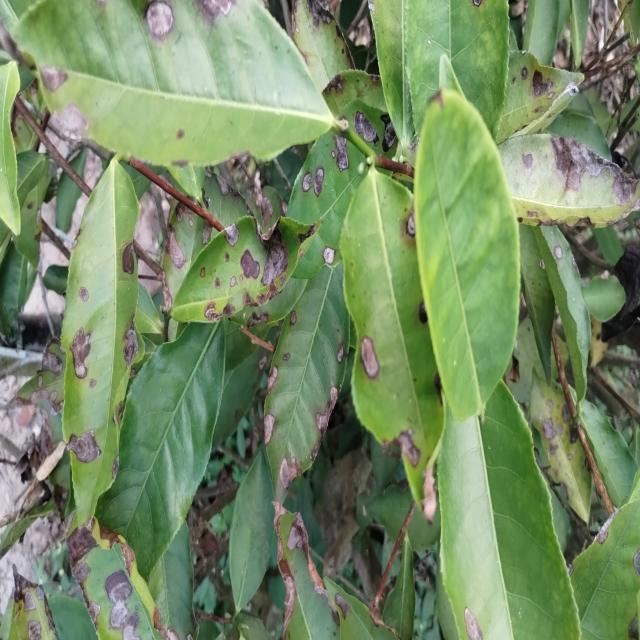Leaf: (7, 0, 333, 165), (438, 380, 580, 640), (341, 172, 444, 523), (414, 89, 520, 419), (97, 321, 225, 579), (61, 159, 139, 525), (265, 266, 350, 491), (170, 216, 316, 322), (405, 0, 510, 137), (498, 134, 640, 227), (286, 131, 368, 277), (68, 517, 160, 640), (533, 226, 591, 401), (570, 501, 640, 640), (530, 369, 591, 523), (273, 501, 339, 640), (496, 51, 583, 144), (229, 449, 275, 610), (369, 0, 415, 153), (580, 401, 638, 507), (162, 203, 217, 312), (291, 0, 355, 91), (148, 520, 196, 640), (519, 226, 555, 381), (325, 579, 397, 640), (15, 338, 66, 413), (0, 61, 21, 234), (9, 567, 58, 640), (339, 99, 397, 158), (15, 172, 50, 268), (383, 536, 415, 640), (547, 111, 611, 160), (357, 485, 413, 539), (0, 243, 27, 342), (523, 0, 559, 65), (582, 276, 626, 322), (16, 150, 49, 207), (55, 172, 83, 233), (407, 507, 440, 551), (570, 0, 589, 68), (69, 148, 87, 176)
